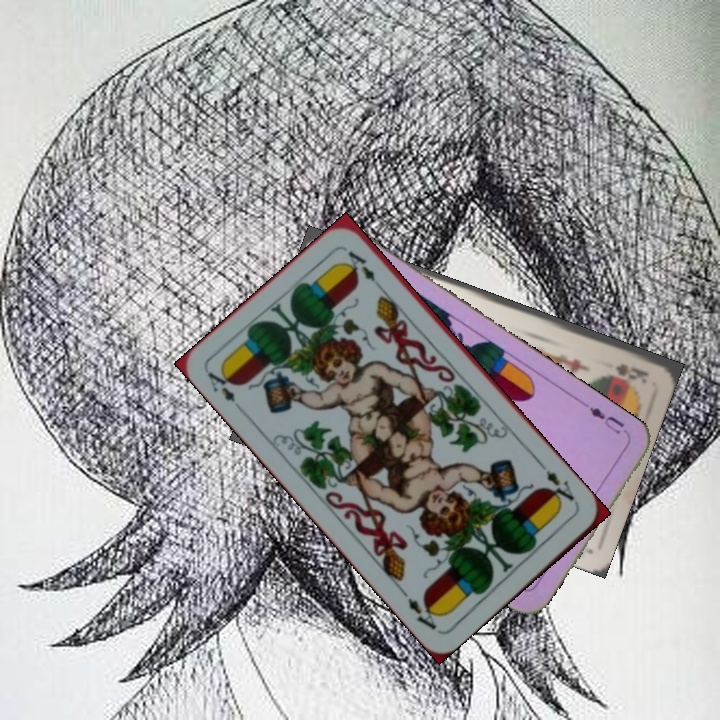EA: (203, 364, 245, 416), (536, 460, 577, 509)
EU: (580, 401, 632, 439)
SK: (611, 359, 651, 386)
